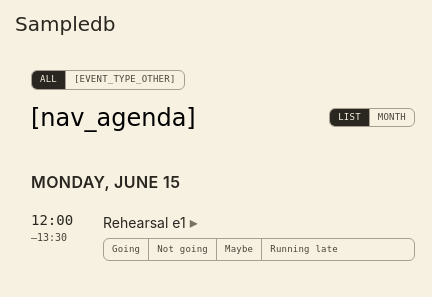
+page — the failure path is byte-preserved, and failure never announces saved › a rejected write: value reverts + role=alert error, NO saved cue
Click the button with test id "rsvp-btn-going": (127, 249) [104,238,149,260]
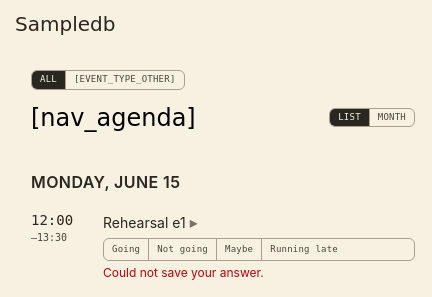
Now the message "Could not save your answer." is shown, box [103,265,264,280]
